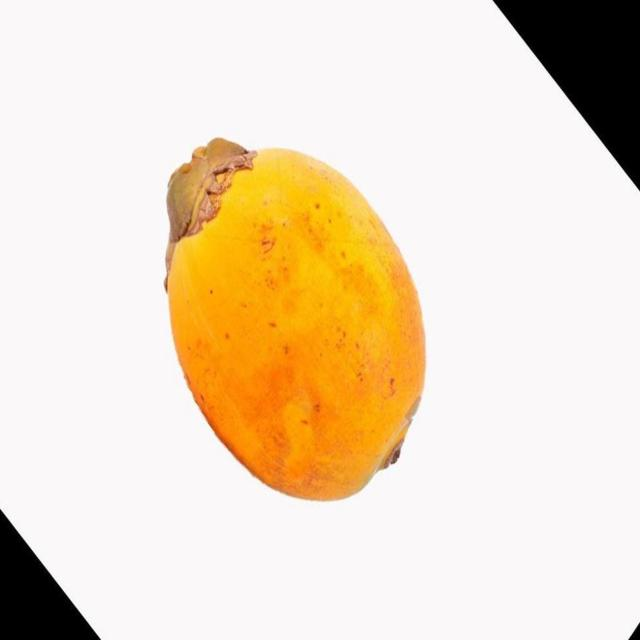good: (164, 139, 428, 505)
